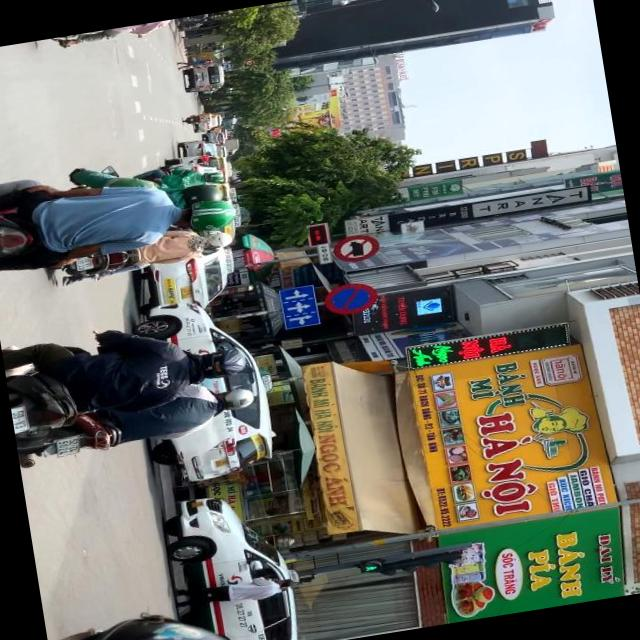P-131a: (322, 281, 378, 317)
